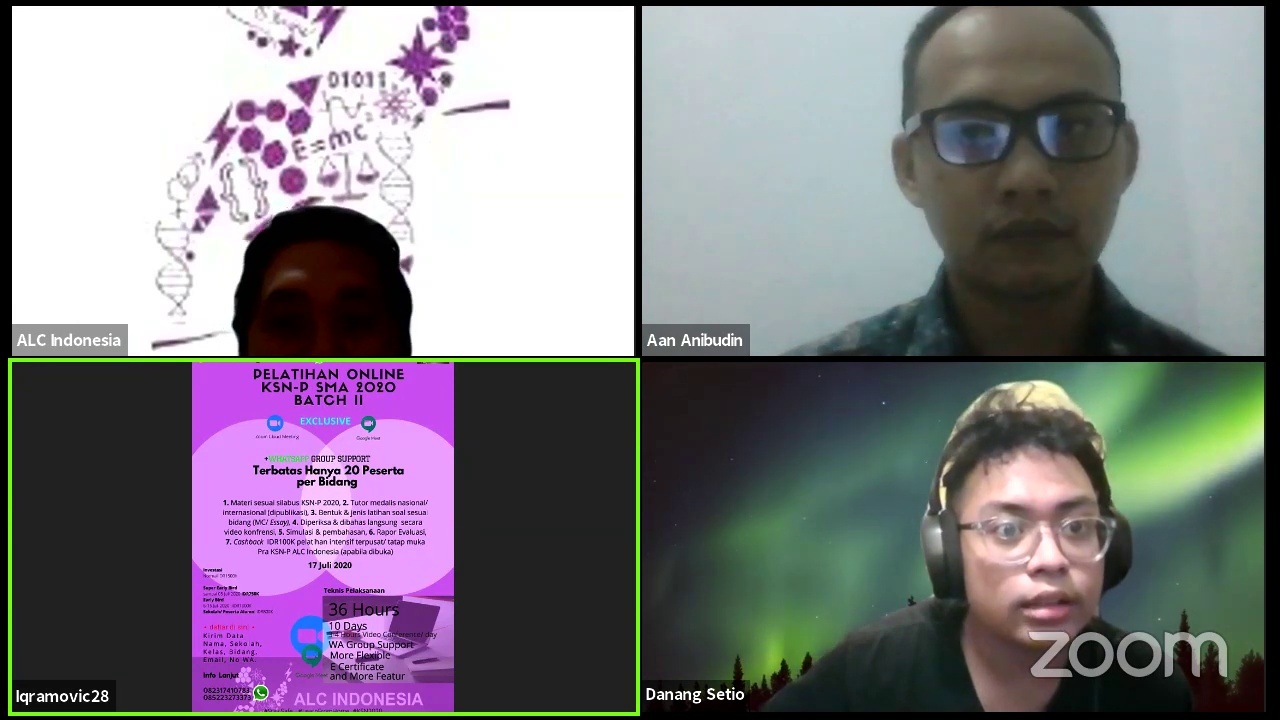Not Distracted: (881, 25, 1145, 293), (906, 421, 1149, 629), (224, 215, 424, 344)
